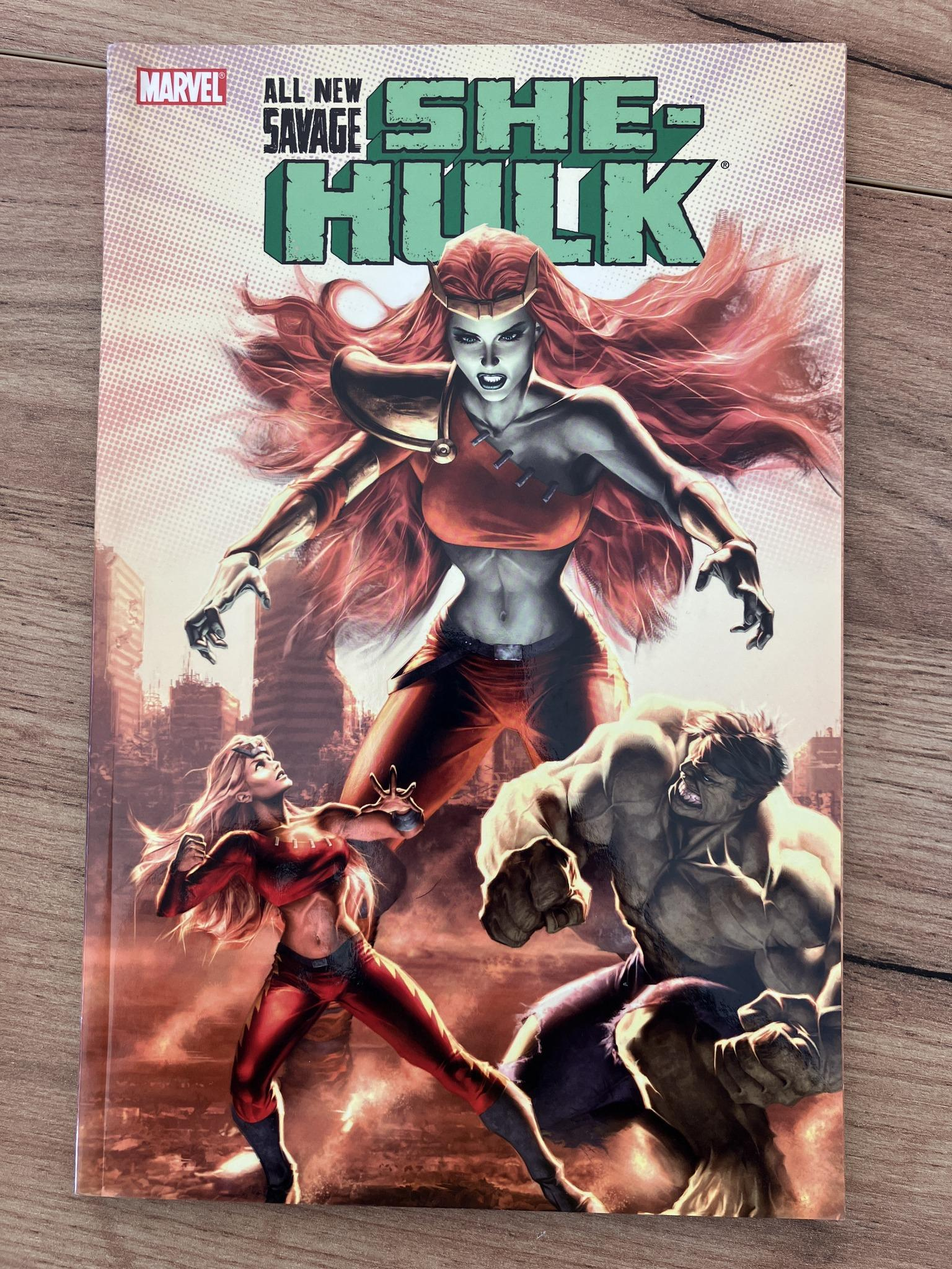comic: (76, 31, 863, 1216)
